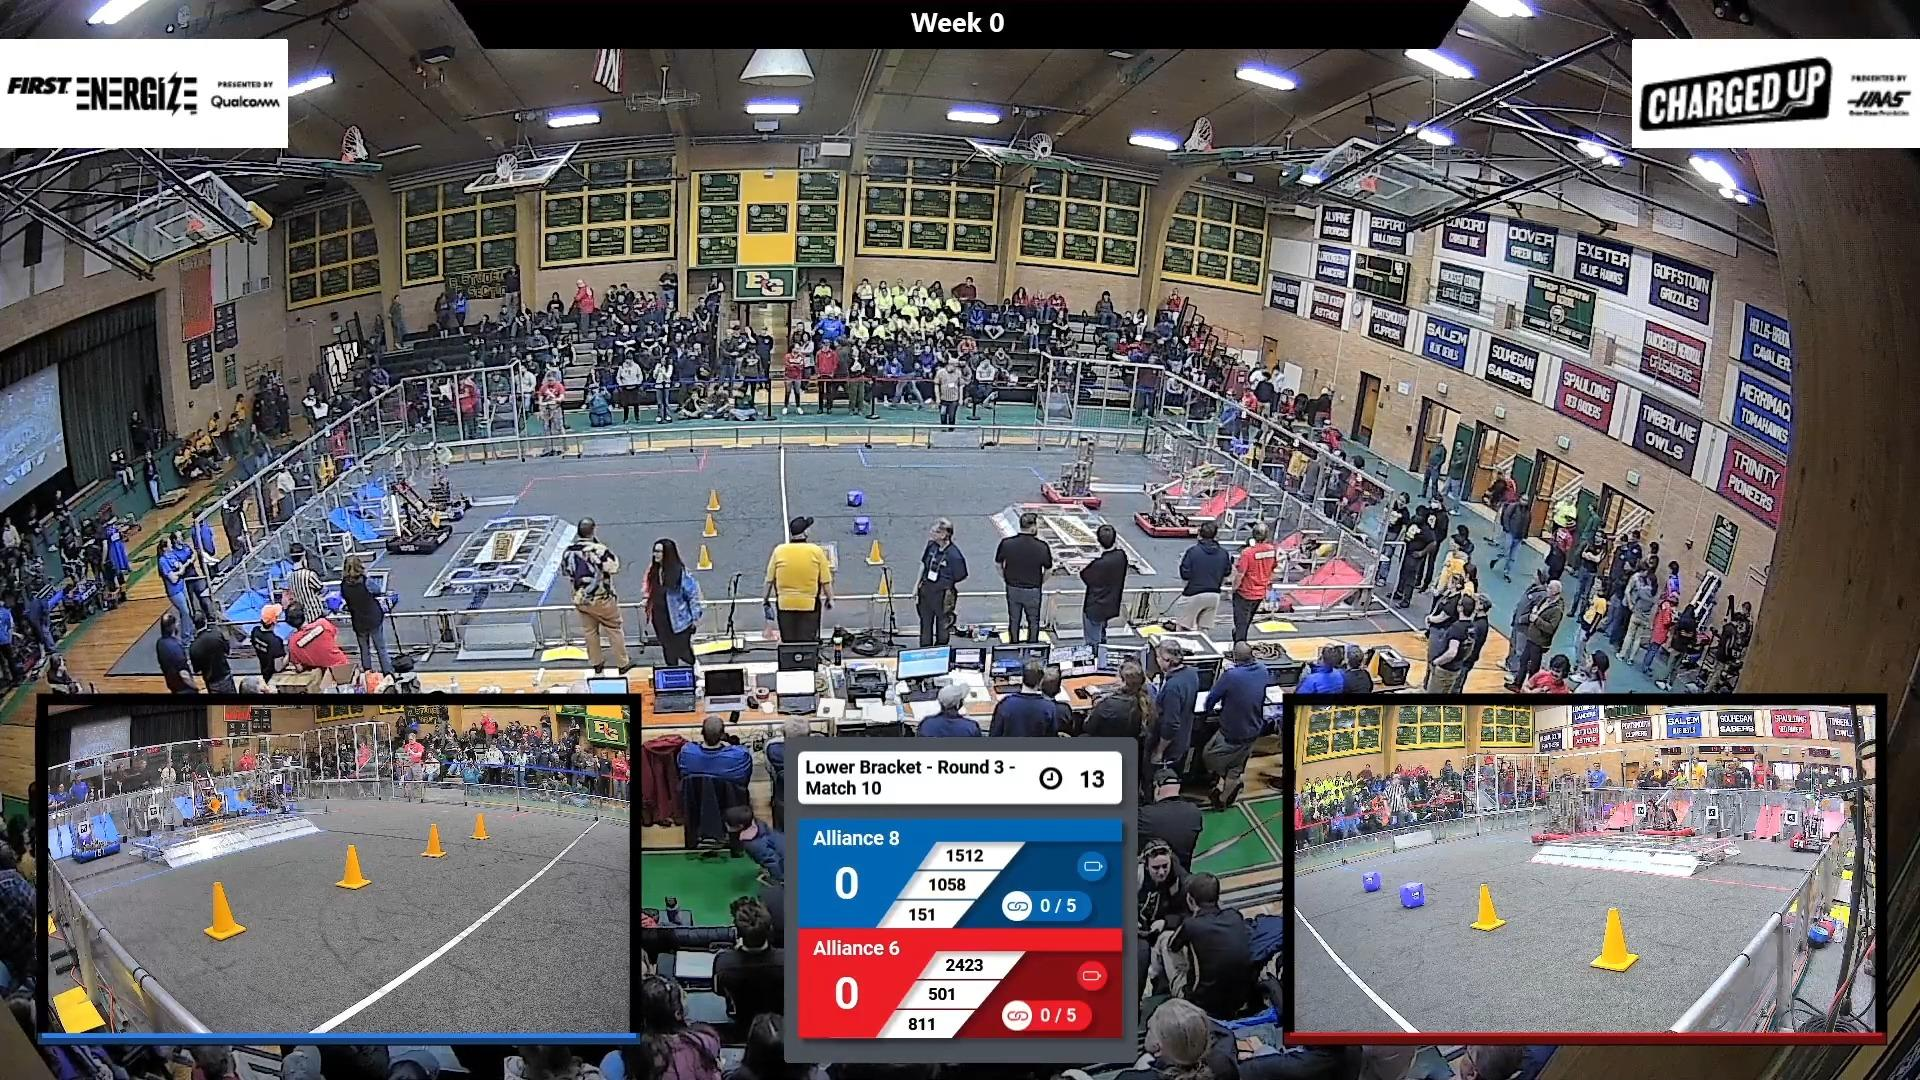robot: (322, 546, 401, 629), (1033, 438, 1114, 512), (375, 489, 452, 559), (1234, 545, 1303, 618), (407, 455, 473, 525), (1134, 476, 1205, 541)
